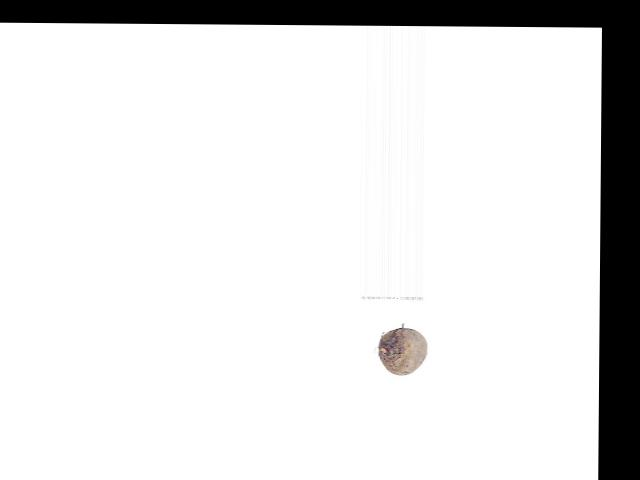beet: (379, 327, 428, 375)
